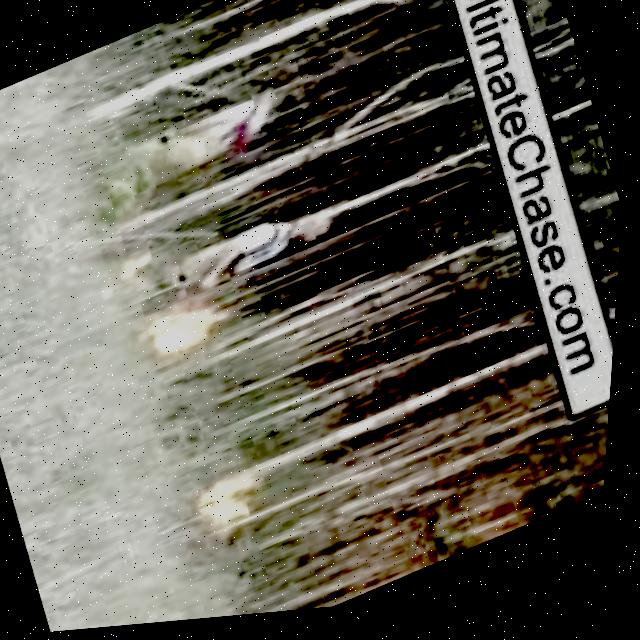Fire: (195, 465, 283, 546), (141, 299, 239, 368), (109, 245, 165, 290)
